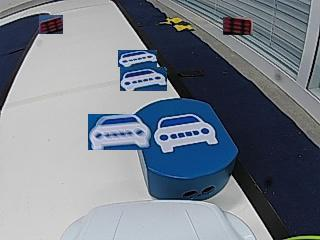safety: (154, 114, 219, 151)
